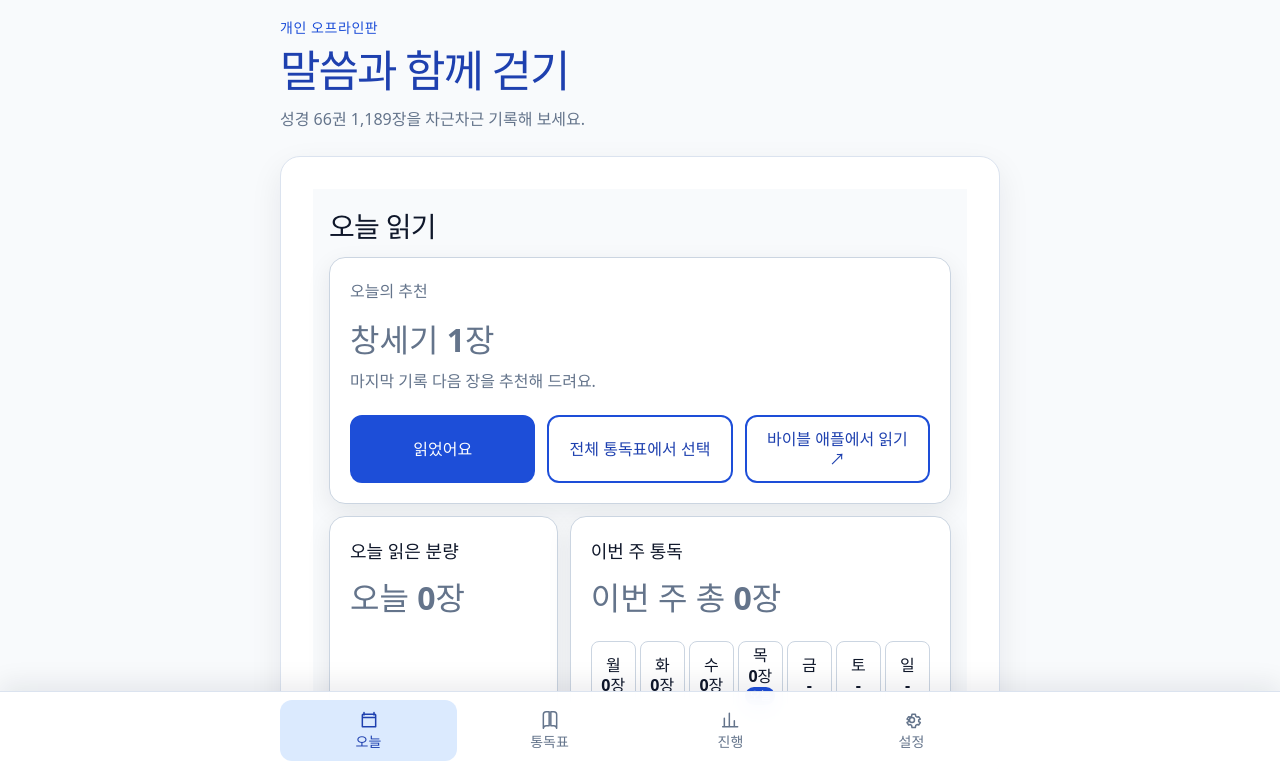
Test case: App reading journey › 오늘 계획을 전체 완료하고 같은 batch를 취소하면 미완료 상태로 복구한다
Click the tab "설정" at (912,731), box [823,700,1000,761]
(page scrolled)
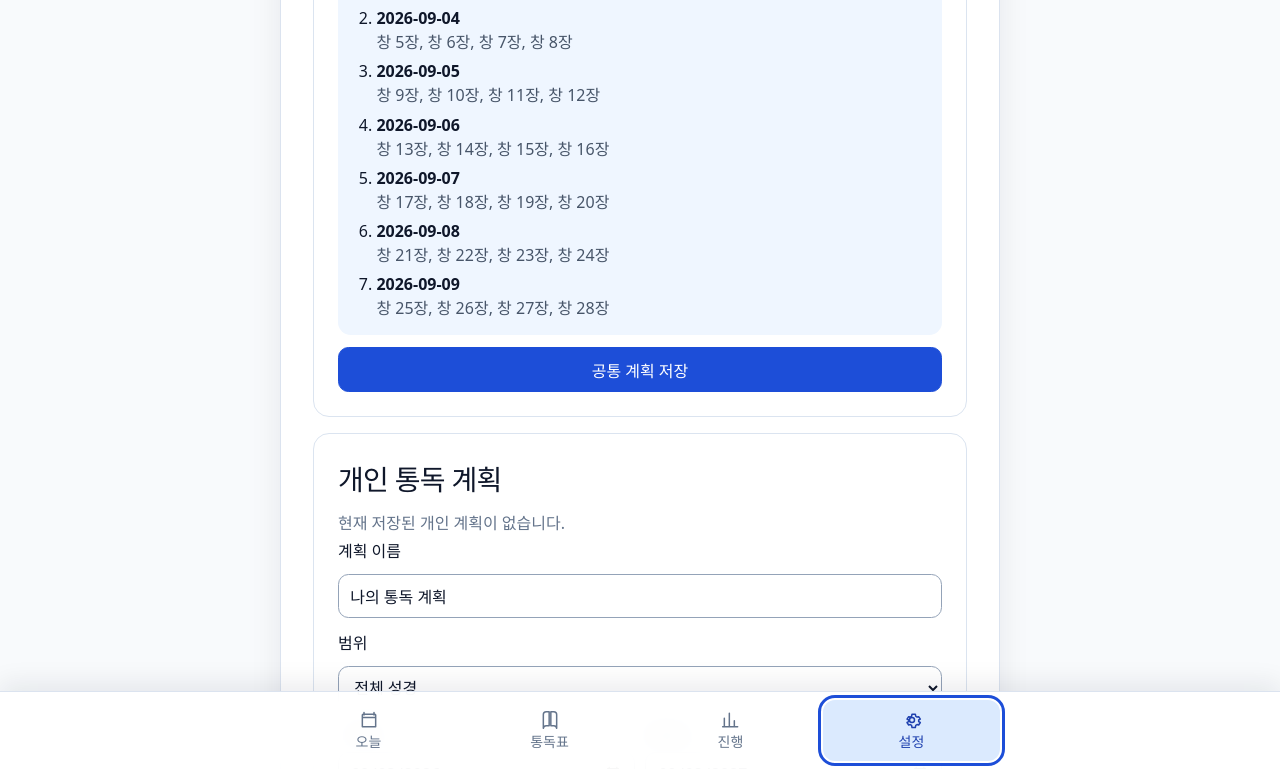
Click the button "공통 계획 저장" at (640,370), box [338,347,942,392]
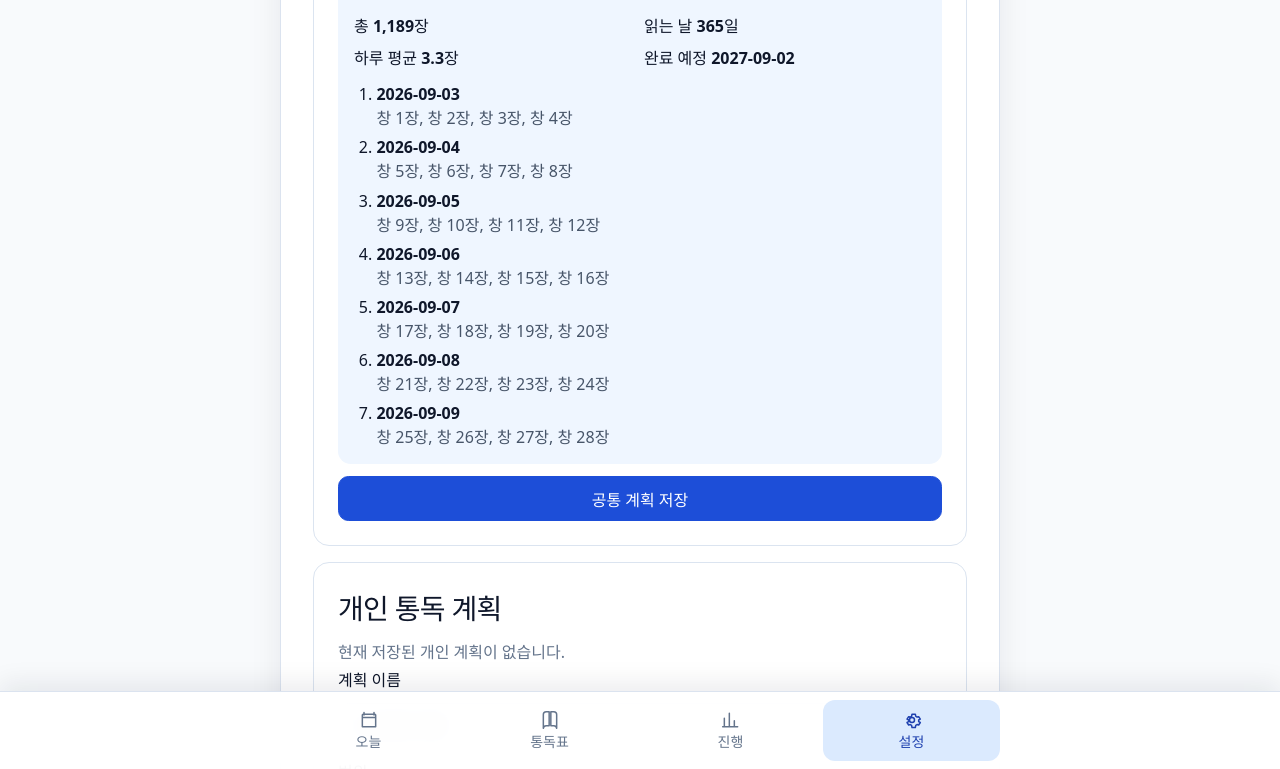
Click the tab "오늘" at (368,731), box [280,700,457,761]
(page scrolled)
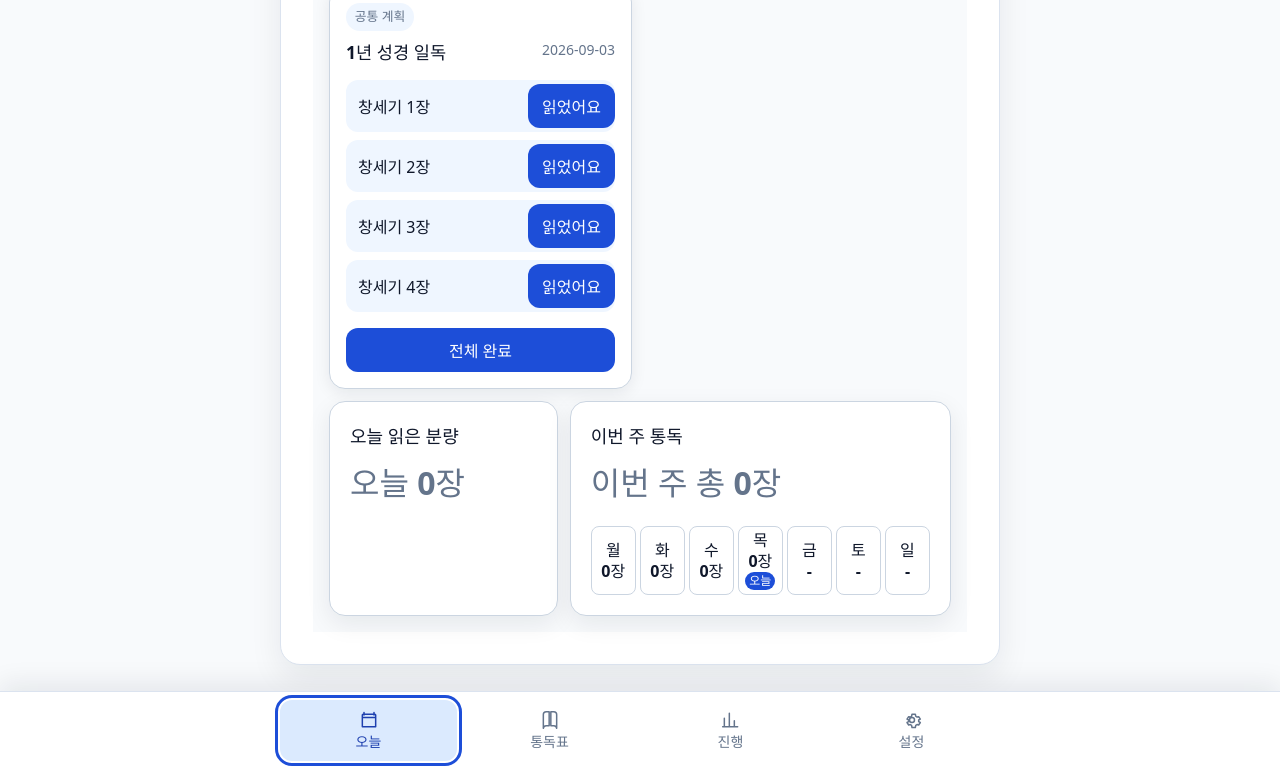
Click the button "전체 완료" at (480,350), box [346,328,615,372]
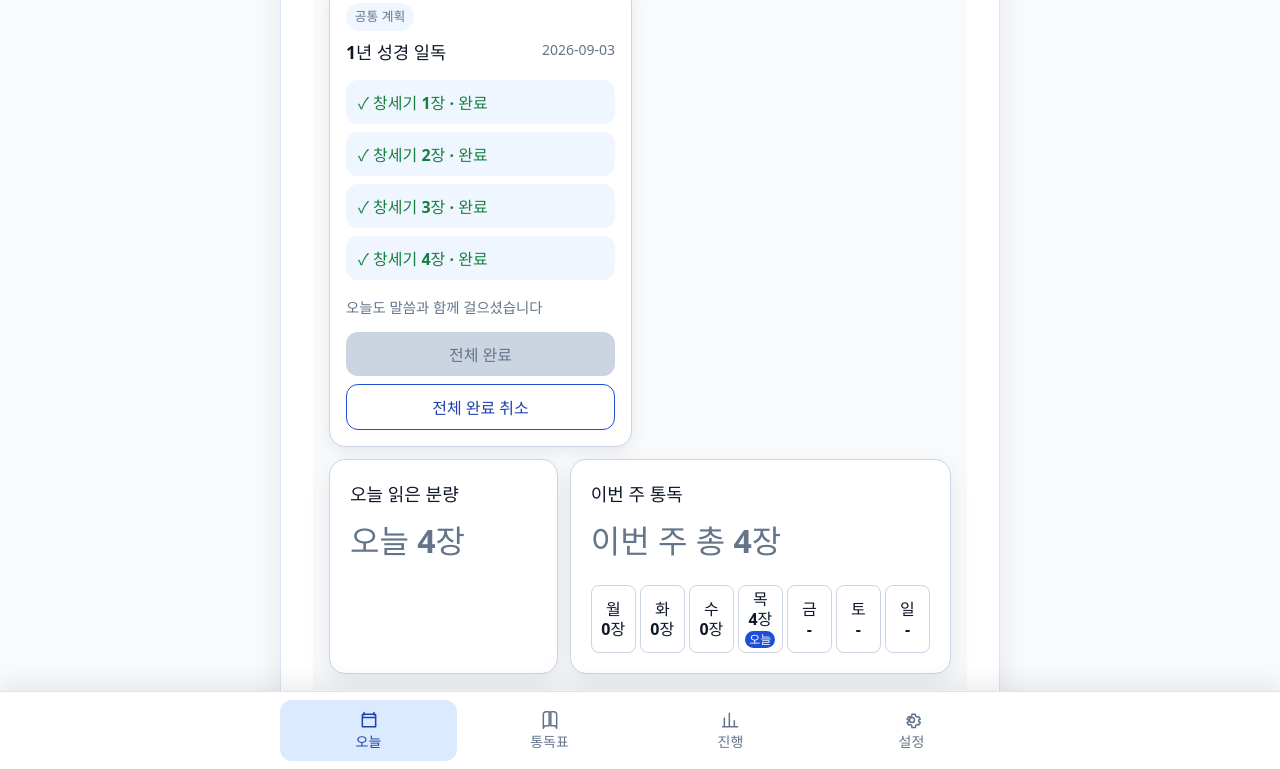
Check: the text "오늘도 말씀과 함께 걸으셨습니다" is shown, box [346,298,543,317]
Click the button with aria-label "1년 성경 일독 전체 완료 취소" at (480,407), box [346,384,615,430]
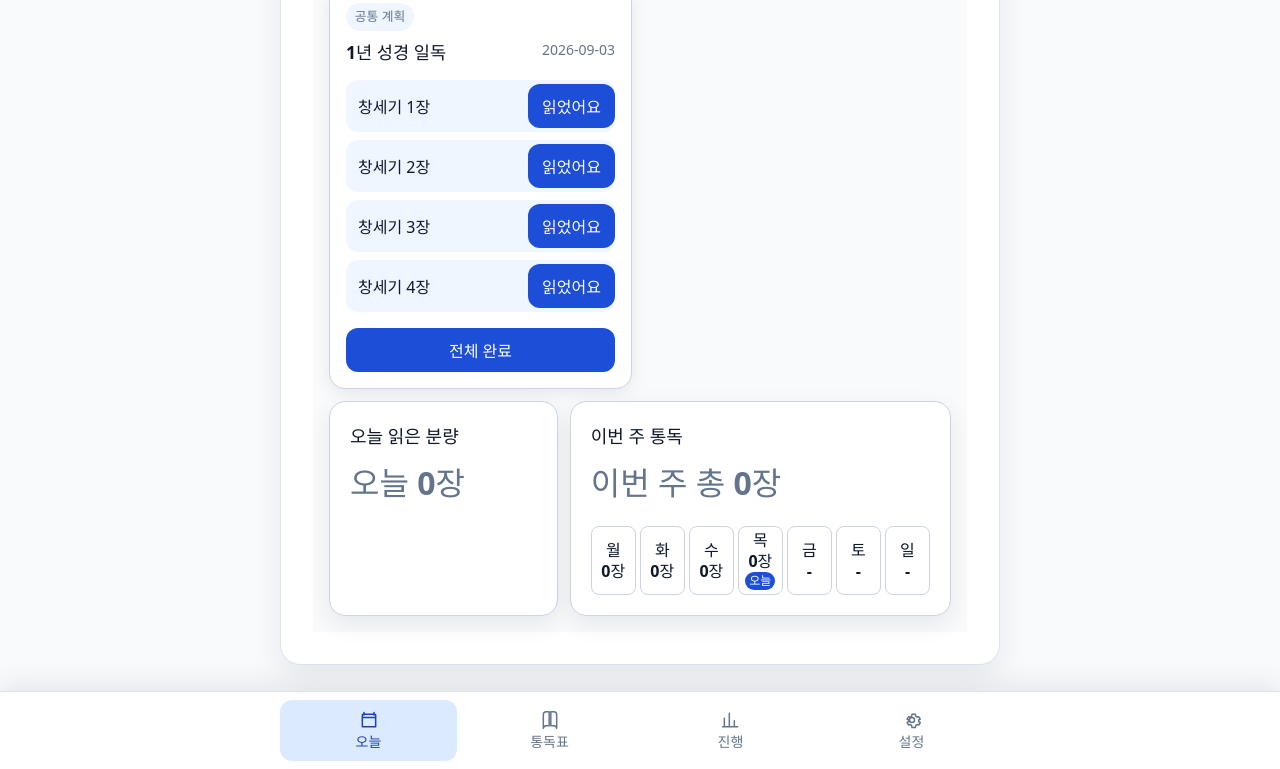
Check: the text "오늘도 말씀과 함께 걸으셨습니다" is gone
Check: the 1st button "읽었어요" is shown, box [528,84,615,128]
